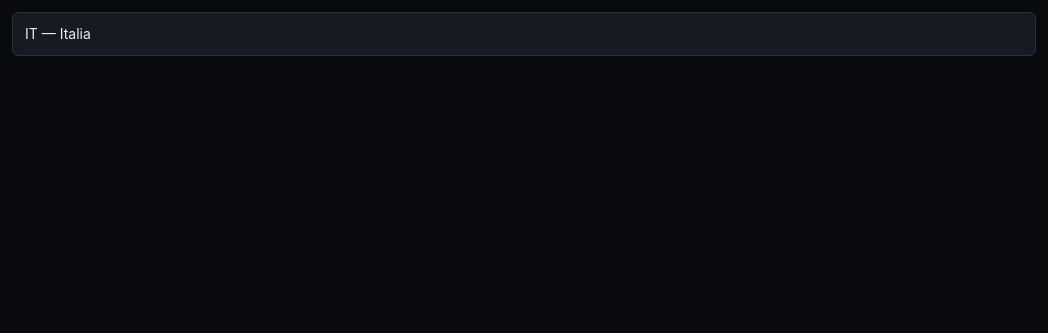
CountrySelect › apre la listbox con tutti i paesi al focus
The image size is (1048, 333).
Focus the dropdown at coordinates (524, 34), box [12, 12, 1036, 56]
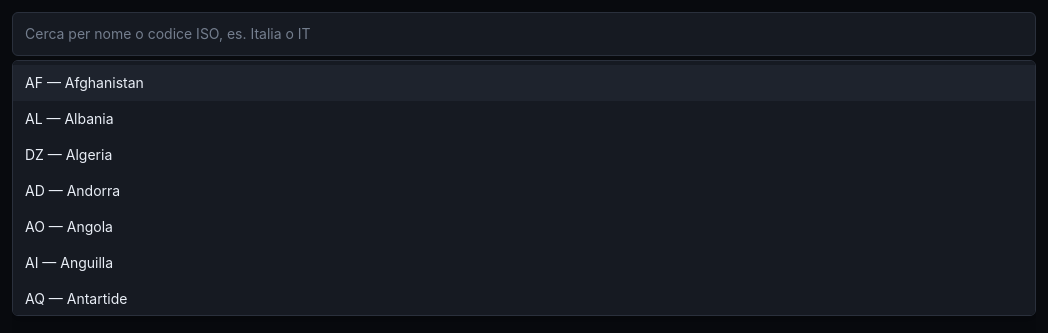
Result: the dropdown is expanded at [12, 12, 1036, 56]
Result: the list is shown
